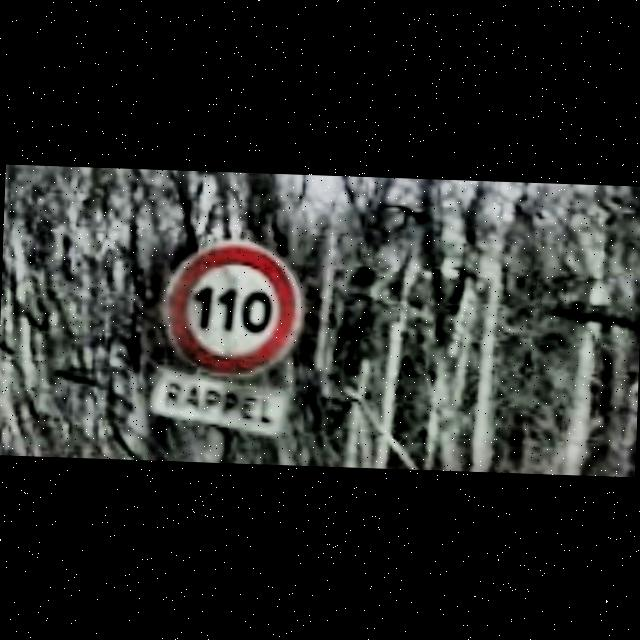speed_110: (158, 236, 307, 386)
